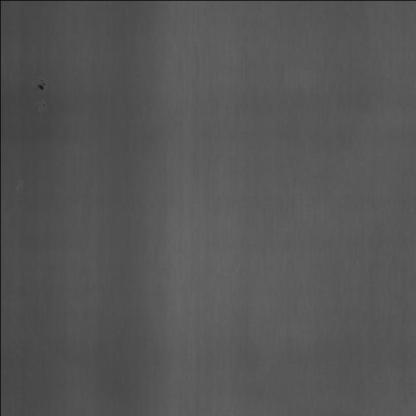inclusion: (33, 74, 47, 96)
